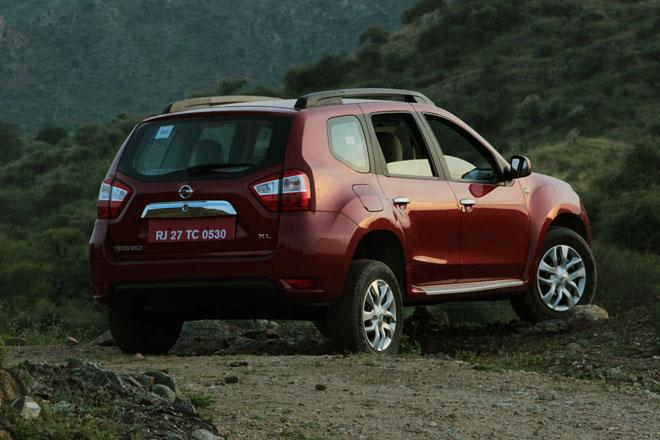License-Plate: (149, 214, 238, 252)
